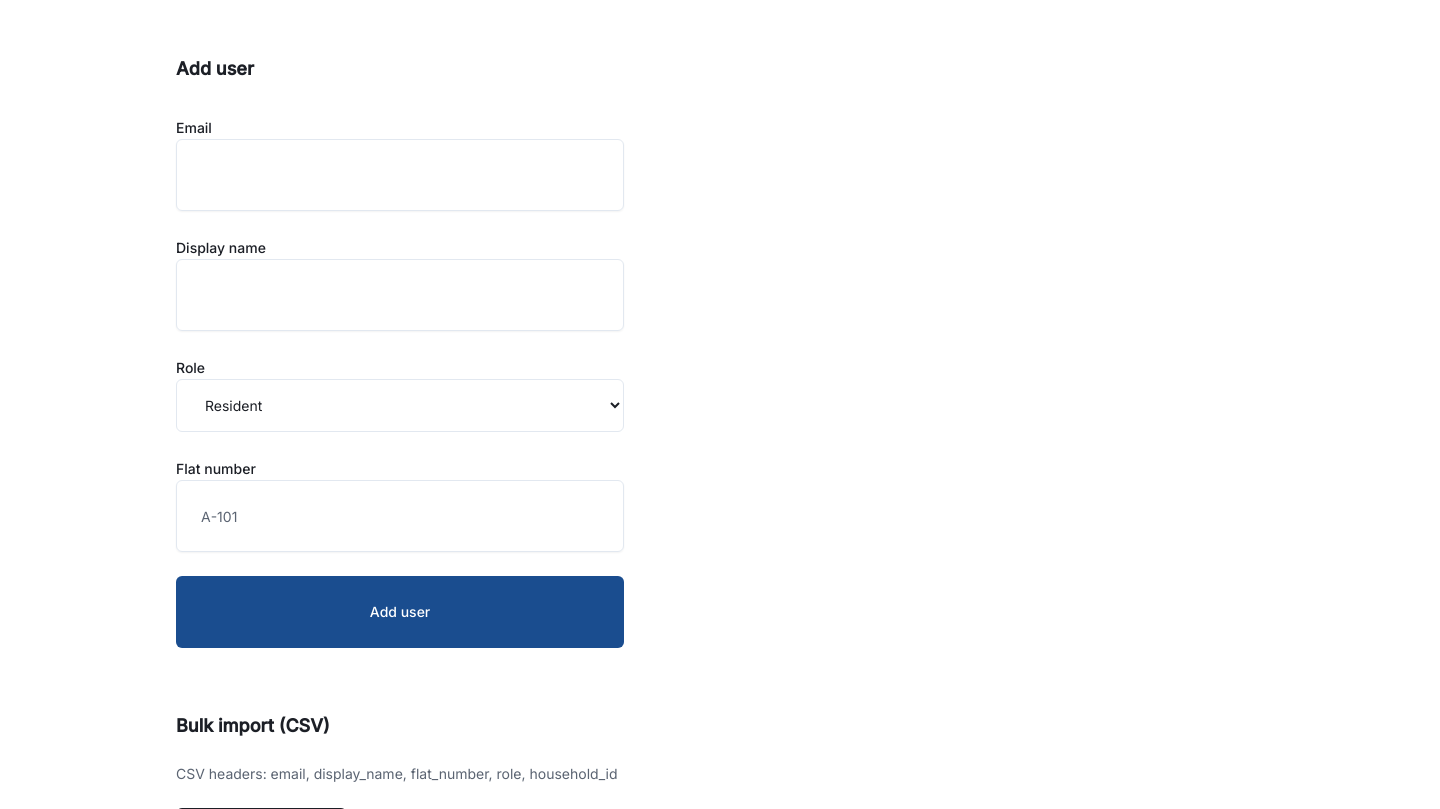
Test: TenantUsers › add-user form with role=tenant_admin does NOT show flat_number field
The image size is (1440, 809).
(page scrolled)
Select "Tenant admin" in the dropdown: (400, 406) [176,379,624,432]
(page scrolled)
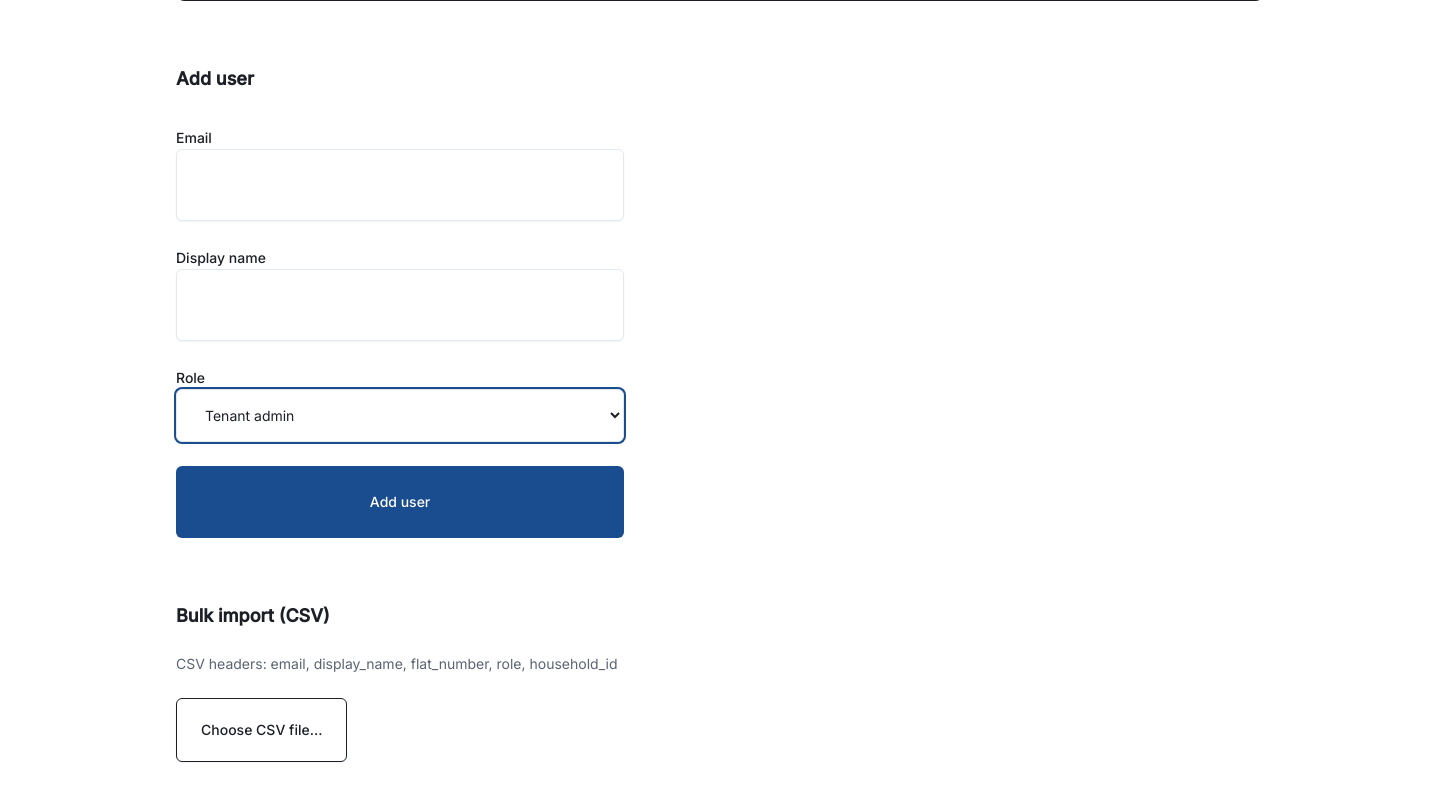
expect the label labelled "Flat number" is gone: met
expect the field with placeholder "A-101" is gone: met
